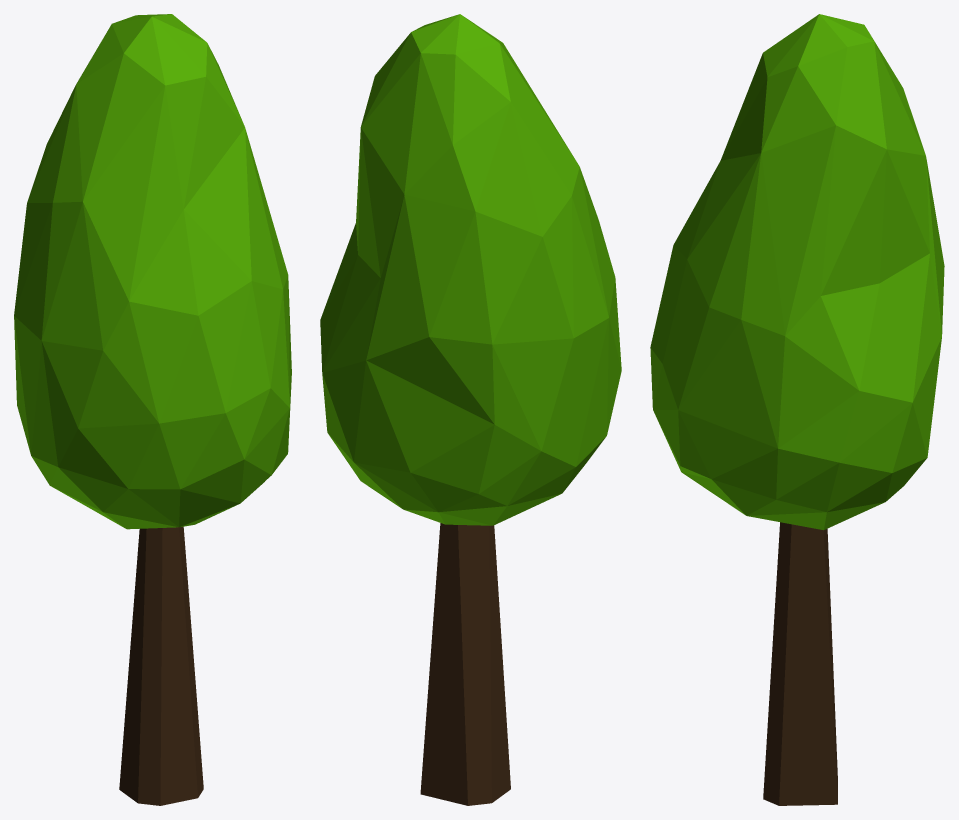
The model's file is Cipresa.glb.
3 renders of one model, left to right at view 1: azimuth 30°, elevation 25°; view 2: azimuth 150°, elevation 25°; view 3: azimuth 270°, elevation 25°, orthographic.
Parts seen in each view (by area): view 1: Thin tree; view 2: Thin tree; view 3: Thin tree.
Boxes of the visible parts, box(x1,y1,x2,y2) form: Thin tree: box(14, 14, 291, 805); Thin tree: box(320, 14, 621, 805); Thin tree: box(650, 14, 944, 805).
Bounding box in the file's own units: 0.284 × 0.8242 × 0.2831.
